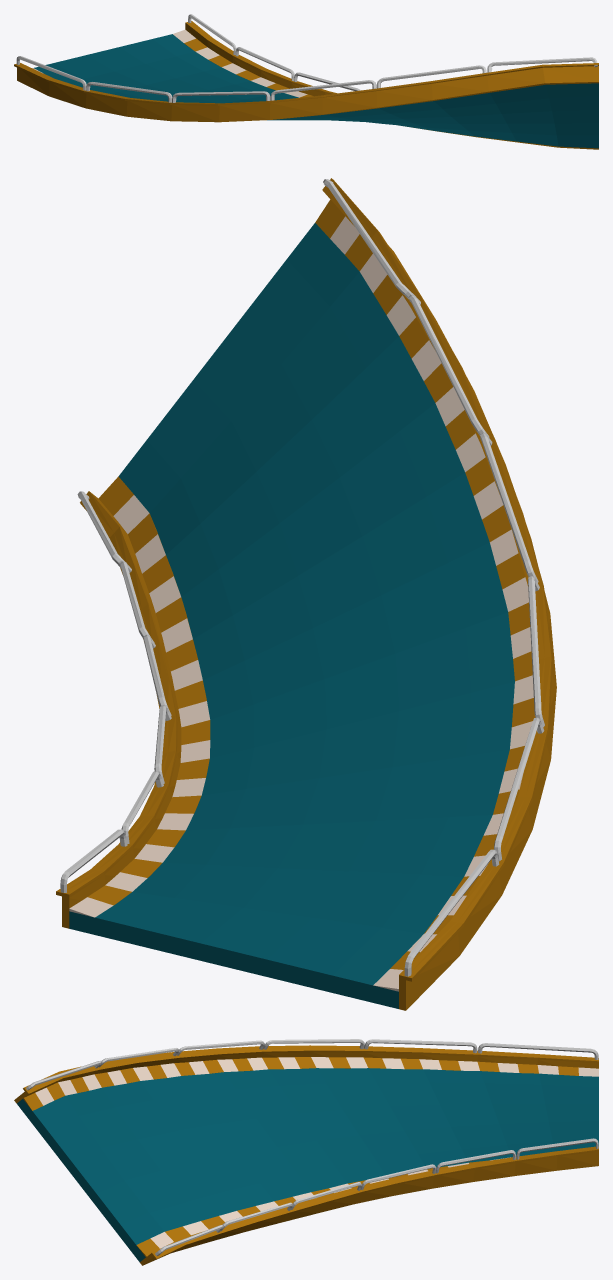
The model's file is curveLeft-60-Banked-45.FBX.
3 views of the same model, one above another, from view 1: azimuth 30°, elevation 25°; view 2: azimuth 150°, elevation 25°; view 3: azimuth 270°, elevation 25° (orthographic). The views are drawn at different scales.
Visible parts, largest first — view 1: curveLeft-60-banked-45, wall_r, wall_l, curbs_l; view 2: curveLeft-60-banked-45, wall_r, curbs_r, curbs_l, wall_l; view 3: curveLeft-60-banked-45, wall_l, wall_r, curbs_r, curbs_l.
Boxes of the visible parts, box(x1,y1,x2,y2) form: curveLeft-60-banked-45: box(34, 34, 598, 148); wall_r: box(14, 56, 598, 122); wall_l: box(185, 14, 598, 149); curbs_l: box(173, 29, 313, 97); curveLeft-60-banked-45: box(69, 223, 514, 1008); wall_r: box(322, 178, 556, 1010); curbs_r: box(315, 199, 534, 991); curbs_l: box(69, 476, 210, 917); wall_l: box(56, 491, 181, 928); curveLeft-60-banked-45: box(17, 1068, 598, 1262); wall_l: box(140, 1138, 598, 1265); wall_r: box(14, 1039, 598, 1103); curbs_r: box(23, 1057, 598, 1110); curbs_l: box(136, 1157, 512, 1256).
Size of what is drawn, in the model's own units: 437 by 171 by 558.
